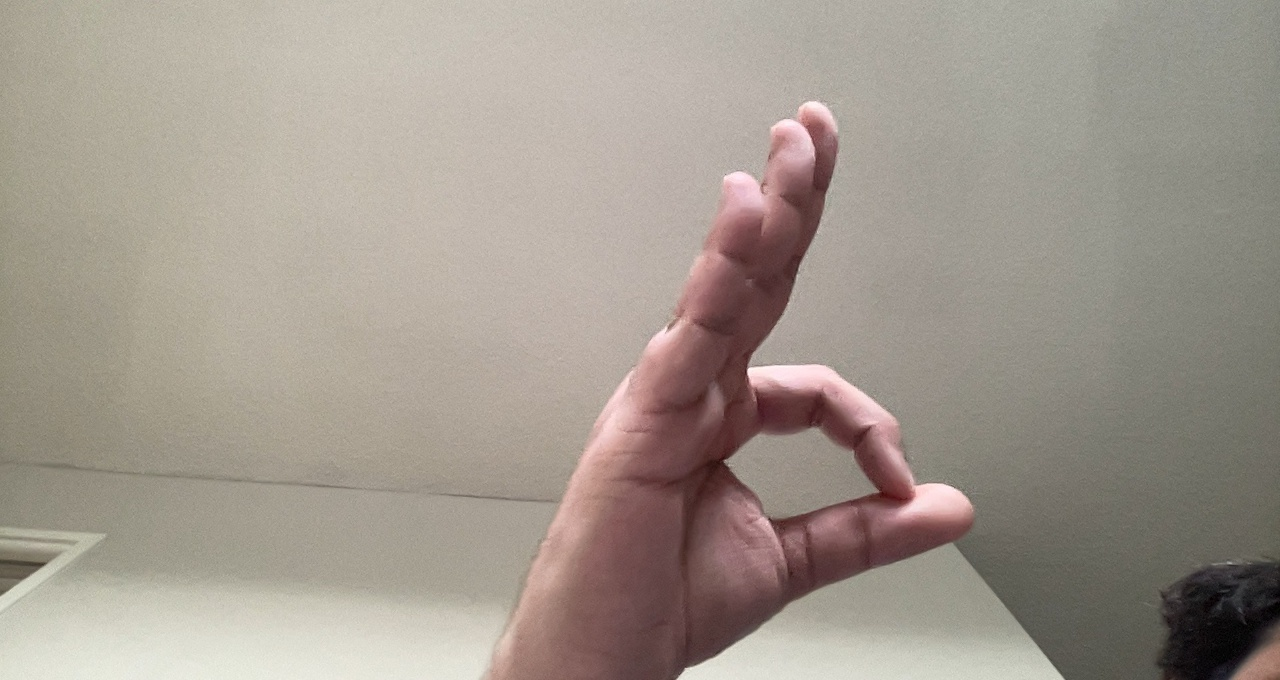ok: (455, 87, 988, 673)
